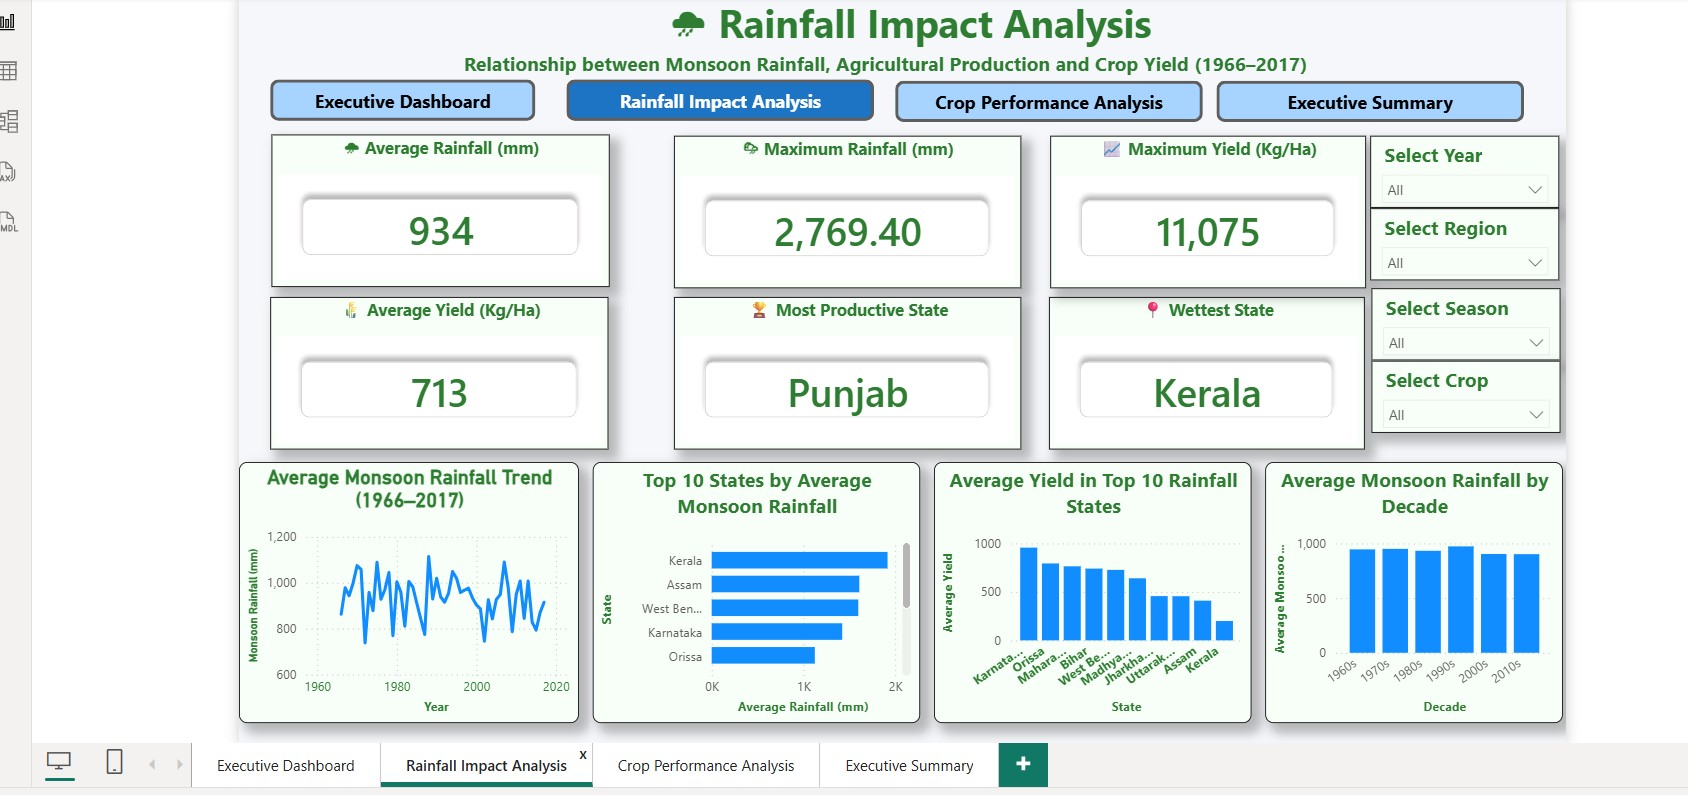

What the dashboard file says about the page in this screenshot:
{"tool":"powerbi","page":{"name":"Rainfall Impact Analysis","canvas":[1280,720],"ordinal":1},"visuals":[{"type":"textbox","title":"🌧 Rainfall Impact Analysis","box":[34.3,0,1228.1,50.8],"z":0},{"type":"textbox","title":"Relationship between Monsoon Rainfall, Agricultural Production and Crop Yield (1966–2017)","box":[11,51.4,1226.5,37.9],"z":1000},{"type":"cardVisual","title":"🌧 Average Rainfall (mm)","fields":{"Data":["Measure Table.Average Rainfall"]},"box":[31.4,132.9,326.6,146.8],"z":2000},{"type":"cardVisual","title":"🌦 Maximum Rainfall (mm)","fields":{"Data":["Measure Table.Maximum Rainfall"]},"box":[419.8,133.9,334.8,146.8],"z":3000},{"type":"cardVisual","title":"📍 Wettest State","fields":{"Data":["Measure Table.Highest Rainfall State"]},"box":[782.3,289.1,304.6,146.8],"z":4000},{"type":"cardVisual","title":"🌾 Average Yield (Kg/Ha)","fields":{"Data":["Measure Table.Average Yield"]},"box":[30.3,289.1,326.6,146.8],"z":5000},{"type":"cardVisual","title":"📈 Maximum Yield (Kg/Ha)","fields":{"Data":["Measure Table.Maximum Yield"]},"box":[783.4,134.3,304.6,146.8],"z":6000},{"type":"cardVisual","title":"🏆 Most Productive State","fields":{"Data":["Measure Table.Highest Producing State"]},"box":[420,289.1,334.8,146.8],"z":7000},{"type":"lineChart","title":"Average Monsoon Rainfall Trend (1966–2017)","fields":{"Category":["Year.Year"],"Y":["Measure Table.Average Monsoon Rainfall"]},"box":[0,448.8,328.2,252.1],"z":8000},{"type":"clusteredBarChart","title":"Top 10 States by Average Monsoon Rainfall","fields":{"Category":["State.State Name"],"Y":["Measure Table.Average Monsoon Rainfall"]},"box":[341.4,448.8,316.1,252.1],"z":9000},{"type":"clusteredColumnChart","title":"Average Yield in Top 10 Rainfall States","fields":{"Category":["State.State Name"],"Y":["Measure Table.Average Yield"]},"box":[670.8,448.8,306.4,252.1],"z":10000},{"type":"clusteredColumnChart","fields":{"Category":["Year.Decade"],"Y":["Measure Table.Average Monsoon Rainfall"]},"box":[990.5,448.8,287.1,252.1],"z":11000},{"type":"slicer","fields":{"Values":["Year.Year"]},"box":[1091.3,134,182.5,70],"z":12000},{"type":"slicer","fields":{"Values":["State.Region"]},"box":[1091.3,204,182.5,70],"z":13000},{"type":"slicer","fields":{"Values":["Fact Agriculture.Season"]},"box":[1092.7,280.8,182.5,70],"z":14000},{"type":"slicer","fields":{"Values":["Crop.Crop"]},"box":[1092.7,350.8,182.5,70],"z":15000},{"type":"actionButton","box":[30.2,79.6,255.8,39.8],"z":15001},{"type":"actionButton","box":[316.1,79.6,296.8,39.8],"z":15002},{"type":"actionButton","box":[633.4,80.8,296.8,39.8],"z":15003},{"type":"actionButton","box":[943.4,80.8,296.8,39.8],"z":15004}]}

Visuals, with their boxes on the page's 1280x720 design canvas (x1, y1, x2, y2). These are canvas units, not pixel positions in the 1688x795 screenshot, which may show the page scaled, cropped or inside an application window:
"🌧 Rainfall Impact Analysis" textbox: BBox(34, 0, 1262, 51)
"Relationship between Monsoon Rainfall, Agricultural Production and Crop Yield (1966–2017)" textbox: BBox(11, 51, 1238, 89)
"🌧 Average Rainfall (mm)" cardVisual: BBox(31, 133, 358, 280)
"🌦 Maximum Rainfall (mm)" cardVisual: BBox(420, 134, 755, 281)
"📍 Wettest State" cardVisual: BBox(782, 289, 1087, 436)
"🌾 Average Yield (Kg/Ha)" cardVisual: BBox(30, 289, 357, 436)
"📈 Maximum Yield (Kg/Ha)" cardVisual: BBox(783, 134, 1088, 281)
"🏆 Most Productive State" cardVisual: BBox(420, 289, 755, 436)
"Average Monsoon Rainfall Trend (1966–2017)" lineChart: BBox(0, 449, 328, 701)
"Top 10 States by Average Monsoon Rainfall" clusteredBarChart: BBox(341, 449, 658, 701)
"Average Yield in Top 10 Rainfall States" clusteredColumnChart: BBox(671, 449, 977, 701)
clusteredColumnChart - Year.Decade x Measure Table.Average Monsoon Rainfall: BBox(990, 449, 1278, 701)
slicer - Year.Year: BBox(1091, 134, 1274, 204)
slicer - State.Region: BBox(1091, 204, 1274, 274)
slicer - Fact Agriculture.Season: BBox(1093, 281, 1275, 351)
slicer - Crop.Crop: BBox(1093, 351, 1275, 421)
actionButton: BBox(30, 80, 286, 119)
actionButton: BBox(316, 80, 613, 119)
actionButton: BBox(633, 81, 930, 121)
actionButton: BBox(943, 81, 1240, 121)
